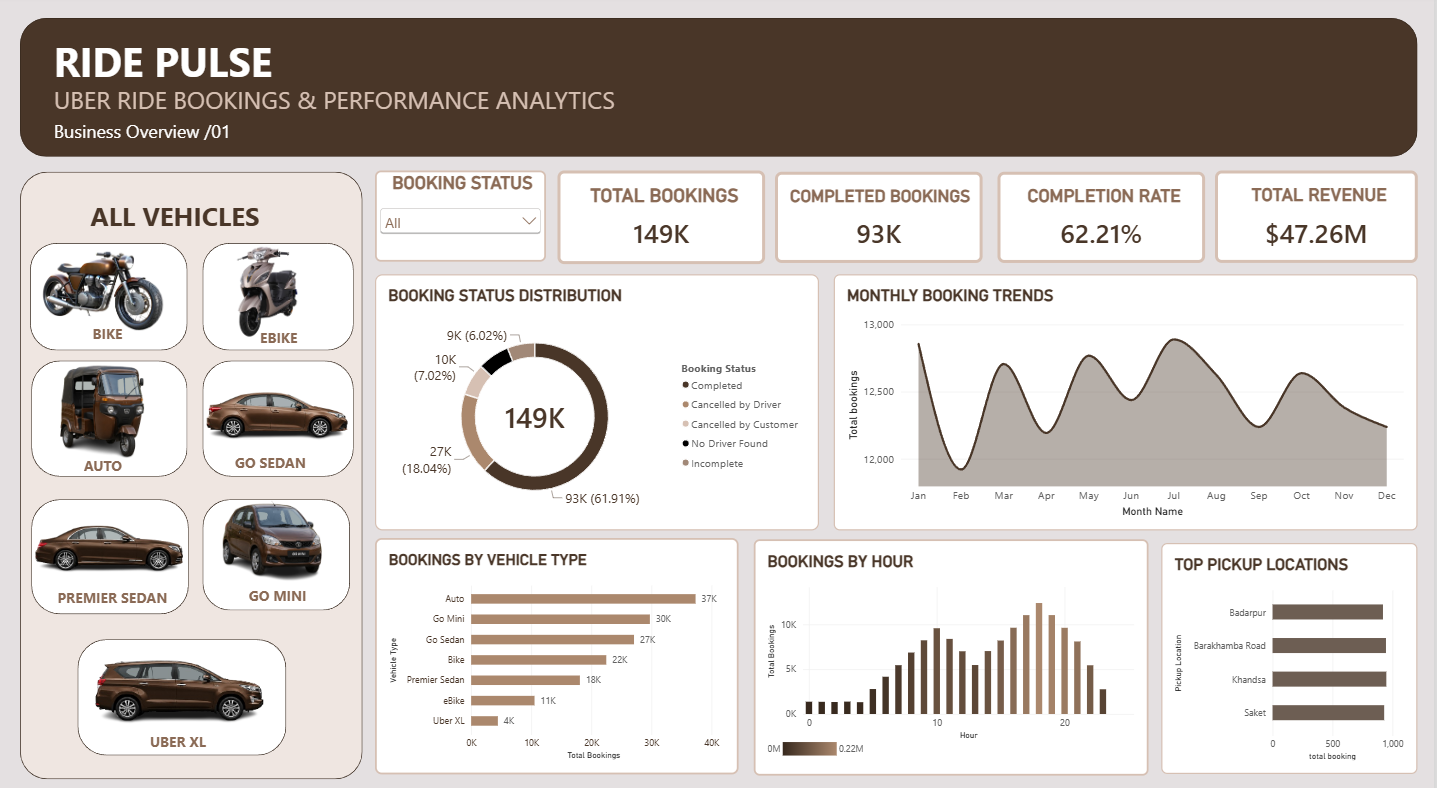

What the dashboard file says about the page in this screenshot:
{"tool":"powerbi","page":{"name":"Business Overview","canvas":[1920,1080],"ordinal":0},"visuals":[{"type":"card","title":"TOTAL BOOKINGS","fields":{"Values":["ncr_ride_bookings_cleaned.Total Bookings"]},"box":[750,236.7,276.7,125],"z":0},{"type":"slicer","title":"VEHICLE TYPE","fields":{"Values":["ncr_ride_bookings_cleaned.Vehicle Type"]},"box":[880,75,225,100],"z":500},{"type":"shape","box":[33.3,33.3,1863.3,185],"z":1000},{"type":"textbox","box":[77.5,55,1665,92.5],"z":2000},{"type":"textbox","box":[77.5,120,1744.3,73.8],"z":4000},{"type":"textbox","box":[77.5,167.5,1422.2,57],"z":5000},{"type":"card","title":"COMPLETED BOOKINGS","fields":{"Values":["ncr_ride_bookings_cleaned.Completed Bookings"]},"box":[1040,238.3,276.7,121.7],"z":6000},{"type":"card","title":"COMPLETION RATE","fields":{"Values":["ncr_ride_bookings_cleaned.Completion Rate"]},"box":[1336.7,238.3,276.7,121.7],"z":7000},{"type":"card","title":"TOTAL REVENUE","fields":{"Values":["ncr_ride_bookings_cleaned.Total Revenue"]},"box":[1626.7,236.7,270,123.3],"z":8000},{"type":"image","title":"uber xl","box":[130,853.8,255,142.5],"z":8006,"group":"g6"},{"type":"image","title":"auto","box":[85.8,473.3,114.8,175],"z":8007,"group":"g1"},{"type":"image","title":"go mini","box":[275,645,187.3,152.5],"z":8008,"group":"g2"},{"type":"image","title":"premium sedan","box":[46.7,661.7,210,168.3],"z":8009,"group":"g5"},{"type":"image","title":"go sedan","box":[276.7,490,206.4,154.1],"z":8010,"group":"g3"},{"type":"image","title":"ebike","box":[283.3,316.7,180.8,163.3],"z":8011,"group":"g7"},{"type":"image","title":"bike","box":[35.8,316.7,210,160],"z":8012,"group":"g4"},{"type":"actionButton","title":"auto Button","box":[73.3,498.1,145,120.1],"z":8013,"group":"g1"},{"type":"actionButton","title":"mini button","box":[283.1,660,192.5,120],"z":8015,"group":"g2"},{"type":"actionButton","title":"go sedan button","box":[294.1,516.3,194.8,92.1],"z":8017,"group":"g3"},{"type":"actionButton","title":"bike button","box":[28.3,336.7,205,105],"z":8019,"group":"g4"},{"type":"actionButton","title":"premiur sedan button","box":[72.3,686.6,151.7,105.9],"z":8021,"group":"g5"},{"type":"actionButton","title":"uber xl button","box":[129.4,861.9,222.5,142.5],"z":8023,"group":"g6"},{"type":"actionButton","title":"ebike button","box":[284.9,342.7,177.7,123.1],"z":8025,"group":"g7"},{"type":"donutChart","title":"BOOKING STATUS DISTRIBUTION","fields":{"Category":["ncr_ride_bookings_cleaned.Booking Status"],"Y":["ncr_ride_bookings_cleaned.Total Bookings"]},"box":[506.7,375,591.7,341.7],"z":9000},{"type":"clusteredBarChart","title":"BOOKINGS BY VEHICLE TYPE","fields":{"Category":["ncr_ride_bookings_cleaned.Vehicle Type"],"Y":["ncr_ride_bookings_cleaned.Total Bookings"]},"box":[506.7,726.7,485,315],"z":10000},{"type":"clusteredColumnChart","title":"BOOKINGS BY HOUR","fields":{"Category":["ncr_ride_bookings_cleaned.Hour"],"Y":["ncr_ride_bookings_cleaned.Total Bookings"]},"box":[1011.7,728.3,526.7,315],"z":11000},{"type":"slicer","title":"BOOKING STATUS","fields":{"Values":["ncr_ride_bookings_cleaned.Booking Status"]},"box":[506.7,236.7,228.3,121.7],"z":12000},{"type":"shape","box":[33.3,238.3,456.7,810],"z":13000},{"type":"shape","box":[46.7,333.3,210,143.3],"z":14000},{"type":"shape","box":[276.7,333.3,201.7,143.3],"z":15000},{"type":"shape","box":[48.3,490,208.3,155],"z":16000},{"type":"shape","box":[276.7,490,201.7,155],"z":17000},{"type":"shape","box":[48.3,675,210,153.3],"z":18000},{"type":"shape","box":[276.7,675,196.7,148.3],"z":19000},{"type":"shape","box":[110,861.7,278.3,155],"z":20000},{"type":"group","id":"g1","title":"Group 1","box":[73.3,473.3,145,175],"z":21000},{"type":"group","id":"g2","title":"Group 2","box":[275,645,200,153.3],"z":22000},{"type":"group","id":"g3","title":"Group 3","box":[276.7,490,213.3,155],"z":23000},{"type":"group","id":"g4","title":"Group 4","box":[28.3,316.7,216.7,160],"z":24000},{"type":"group","id":"g5","title":"Group 5","box":[46.7,661.7,210,168.3],"z":25000},{"type":"group","id":"g6","title":"Group 6","box":[129.4,853.8,255.6,150.6],"z":26000},{"type":"group","id":"g7","title":"Group 7","box":[283.3,316.7,181.7,163.3],"z":27000},{"type":"actionButton","box":[110,266.7,260,58.3],"z":28000},{"type":"textbox","box":[130,441.7,71.7,31.7],"z":29000},{"type":"textbox","box":[353.3,446.7,78.3,38.3],"z":30000},{"type":"textbox","box":[118.3,616.7,83.3,31.7],"z":31000},{"type":"textbox","box":[320,613.3,111.7,31.7],"z":32000},{"type":"textbox","box":[83.3,793.3,151.7,45],"z":33000},{"type":"textbox","box":[338.3,790,98.3,33.3],"z":34000},{"type":"textbox","box":[206.7,985,86.7,31.7],"z":35000},{"type":"areaChart","title":"MONTHLY BOOKING TRENDS","fields":{"Category":["ncr_ride_bookings_cleaned.Month Name"],"Y":["Count(ncr_ride_bookings_cleaned.Booking ID)"]},"box":[1118.3,375,778.3,341.7],"z":36000},{"type":"barChart","title":"TOP PICKUP LOCATIONS","fields":{"Category":["ncr_ride_bookings_cleaned.Pickup Location"],"Y":["Count(ncr_ride_bookings_cleaned.Booking ID)"]},"box":[1555,733.3,341.7,308.3],"z":37000}]}

Visuals, with their boxes in screenshot pixels (x1, y1, x2, y2), scaled from the page's 1920x1080 canvas onto the 1437x788 screenshot:
"TOTAL BOOKINGS" card: (left=561, top=173, right=768, bottom=264)
"VEHICLE TYPE" slicer: (left=659, top=55, right=827, bottom=128)
shape: (left=25, top=24, right=1419, bottom=159)
textbox: (left=58, top=40, right=1304, bottom=108)
textbox: (left=58, top=88, right=1364, bottom=141)
textbox: (left=58, top=122, right=1122, bottom=164)
"COMPLETED BOOKINGS" card: (left=778, top=174, right=985, bottom=263)
"COMPLETION RATE" card: (left=1000, top=174, right=1208, bottom=263)
"TOTAL REVENUE" card: (left=1217, top=173, right=1420, bottom=263)
"uber xl" image: (left=97, top=623, right=288, bottom=727)
"auto" image: (left=64, top=345, right=150, bottom=473)
"go mini" image: (left=206, top=471, right=346, bottom=582)
"premium sedan" image: (left=35, top=483, right=192, bottom=606)
"go sedan" image: (left=207, top=358, right=362, bottom=470)
"ebike" image: (left=212, top=231, right=347, bottom=350)
"bike" image: (left=27, top=231, right=184, bottom=348)
"auto Button" actionButton: (left=55, top=363, right=163, bottom=451)
"mini button" actionButton: (left=212, top=482, right=356, bottom=569)
"go sedan button" actionButton: (left=220, top=377, right=366, bottom=444)
"bike button" actionButton: (left=21, top=246, right=175, bottom=322)
"premiur sedan button" actionButton: (left=54, top=501, right=168, bottom=578)
"uber xl button" actionButton: (left=97, top=629, right=263, bottom=733)
"ebike button" actionButton: (left=213, top=250, right=346, bottom=340)
"BOOKING STATUS DISTRIBUTION" donutChart: (left=379, top=274, right=822, bottom=523)
"BOOKINGS BY VEHICLE TYPE" clusteredBarChart: (left=379, top=530, right=742, bottom=760)
"BOOKINGS BY HOUR" clusteredColumnChart: (left=757, top=531, right=1151, bottom=761)
"BOOKING STATUS" slicer: (left=379, top=173, right=550, bottom=261)
shape: (left=25, top=174, right=367, bottom=765)
shape: (left=35, top=243, right=192, bottom=348)
shape: (left=207, top=243, right=358, bottom=348)
shape: (left=36, top=358, right=192, bottom=471)
shape: (left=207, top=358, right=358, bottom=471)
shape: (left=36, top=492, right=193, bottom=604)
shape: (left=207, top=492, right=354, bottom=601)
shape: (left=82, top=629, right=291, bottom=742)
"Group 1" group: (left=55, top=345, right=163, bottom=473)
"Group 2" group: (left=206, top=471, right=356, bottom=582)
"Group 3" group: (left=207, top=358, right=367, bottom=471)
"Group 4" group: (left=21, top=231, right=183, bottom=348)
"Group 5" group: (left=35, top=483, right=192, bottom=606)
"Group 6" group: (left=97, top=623, right=288, bottom=733)
"Group 7" group: (left=212, top=231, right=348, bottom=350)
actionButton: (left=82, top=195, right=277, bottom=237)
textbox: (left=97, top=322, right=151, bottom=345)
textbox: (left=264, top=326, right=323, bottom=354)
textbox: (left=89, top=450, right=151, bottom=473)
textbox: (left=240, top=447, right=323, bottom=471)
textbox: (left=62, top=579, right=176, bottom=612)
textbox: (left=253, top=576, right=327, bottom=601)
textbox: (left=155, top=719, right=220, bottom=742)
"MONTHLY BOOKING TRENDS" areaChart: (left=837, top=274, right=1419, bottom=523)
"TOP PICKUP LOCATIONS" barChart: (left=1164, top=535, right=1420, bottom=760)
